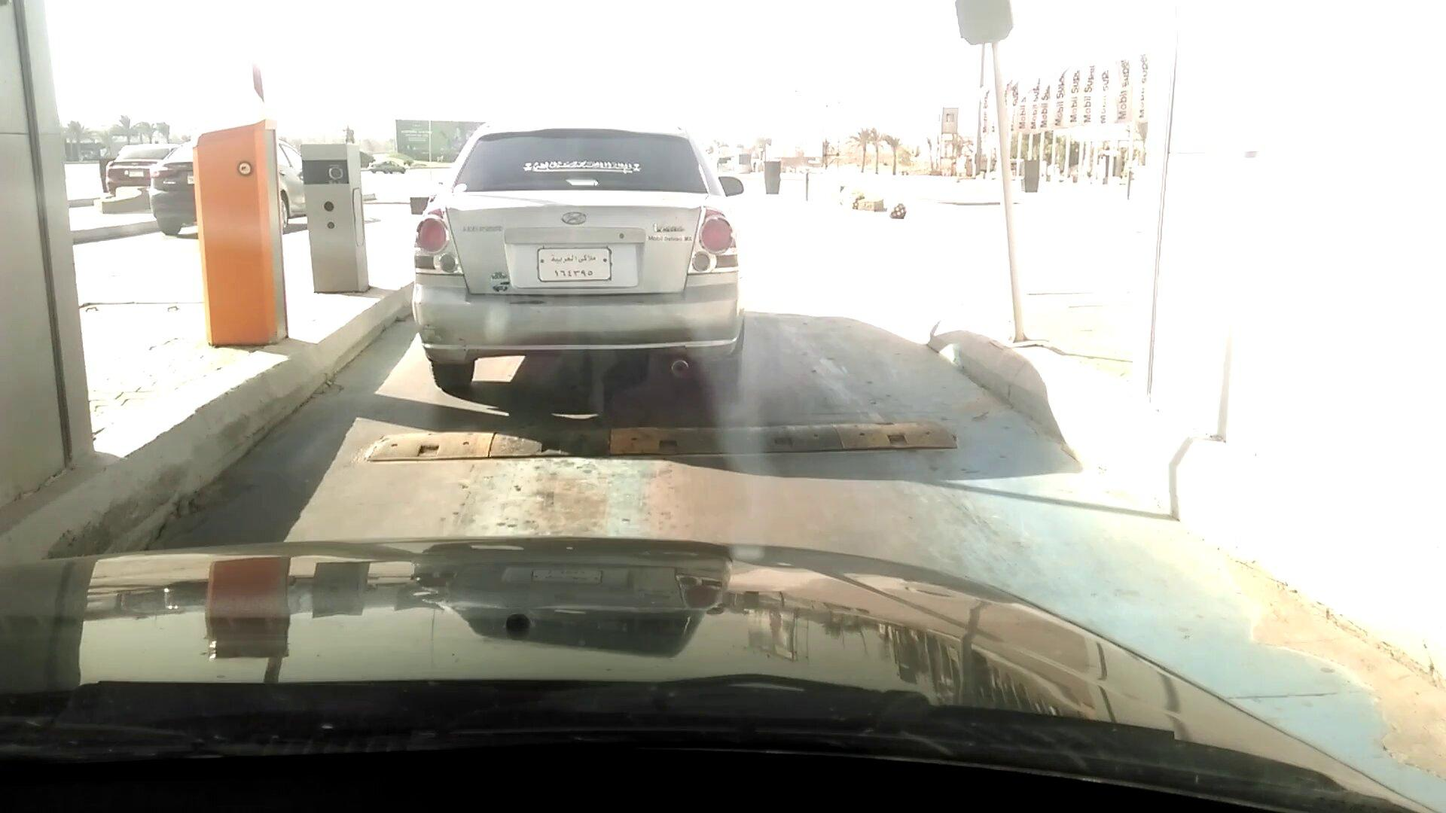Bump: (377, 405, 972, 484)
